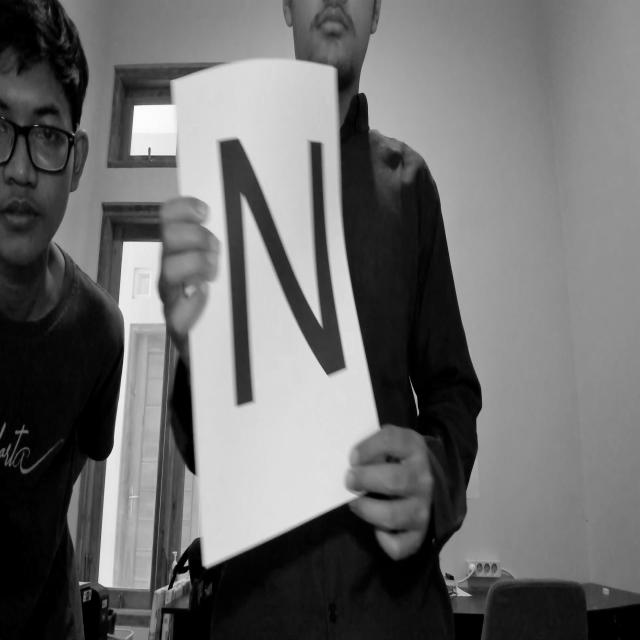n: (210, 121, 354, 426)
